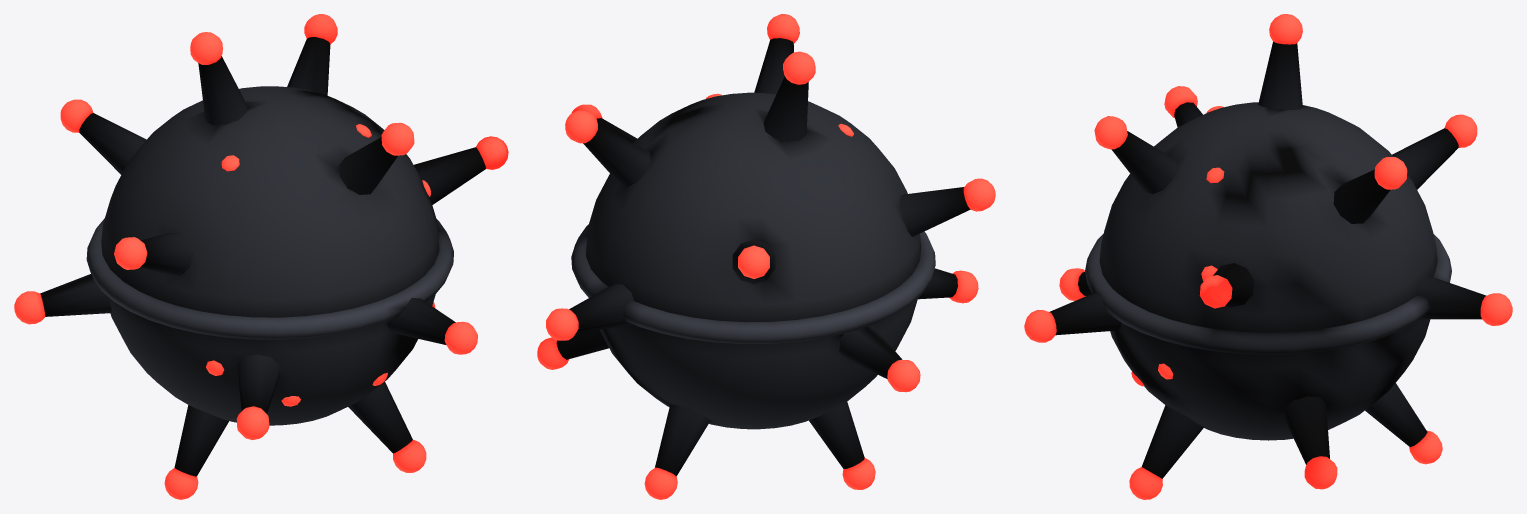
File: mine.glb
3 renders of one model, left to right at view 1: azimuth 30°, elevation 25°; view 2: azimuth 150°, elevation 25°; view 3: azimuth 270°, elevation 25°, orthographic.
Parts seen in each view (by area): view 1: mine_mesh; view 2: mine_mesh; view 3: mine_mesh.
Boxes of the visible parts, x1,y1,x2,y2 form: mine_mesh: [14, 14, 508, 499]; mine_mesh: [537, 14, 995, 499]; mine_mesh: [1024, 14, 1512, 499].
Bounding box in the file's own units: 1.42 × 1.43 × 1.44.
